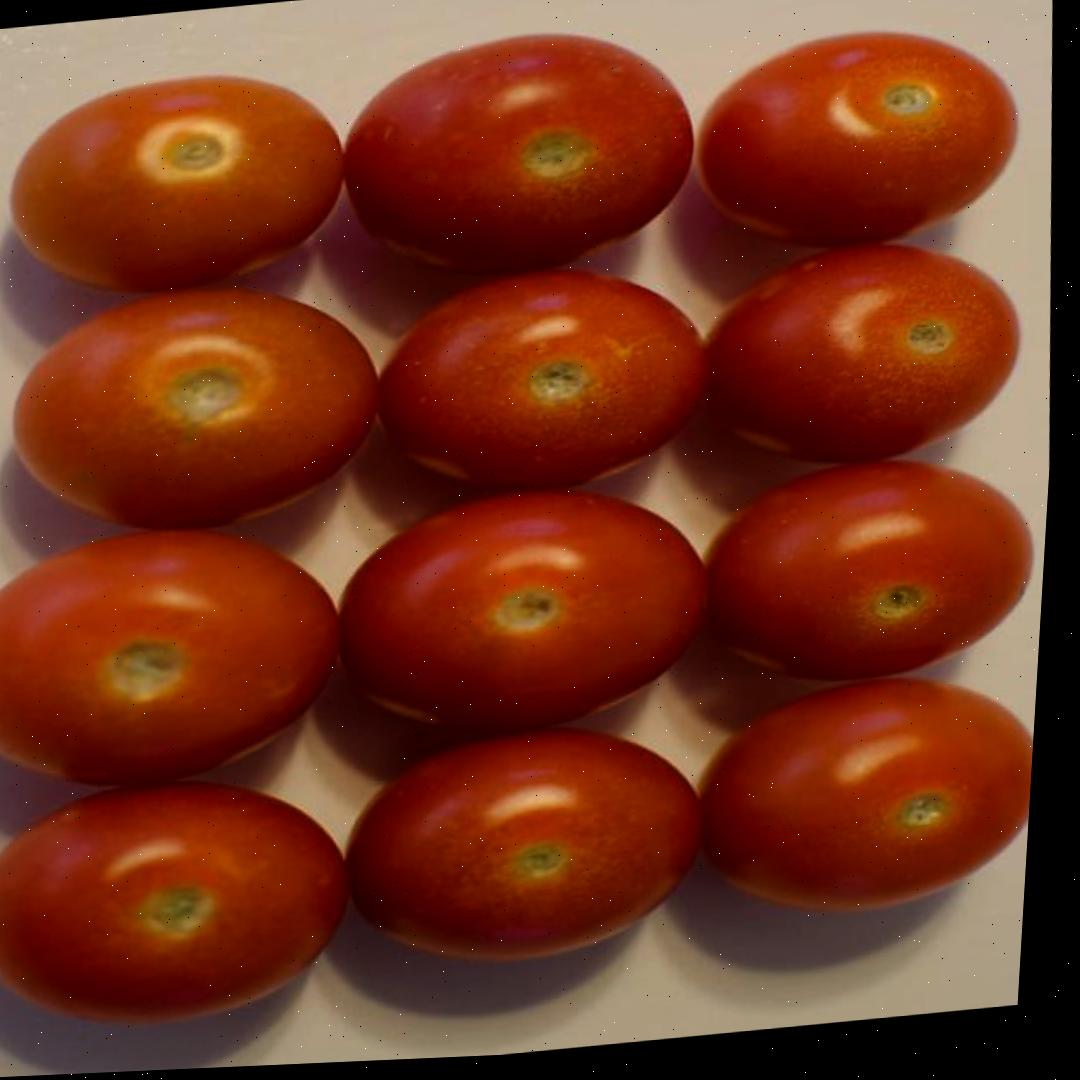matang: (329, 472, 721, 750), (0, 513, 354, 804), (331, 18, 707, 290), (335, 714, 715, 976), (0, 763, 359, 1040), (691, 661, 1038, 923), (692, 447, 1045, 698), (369, 253, 718, 505), (686, 15, 1034, 263), (691, 232, 1036, 477)
setengah_matang: (0, 270, 392, 549), (0, 57, 357, 306)
